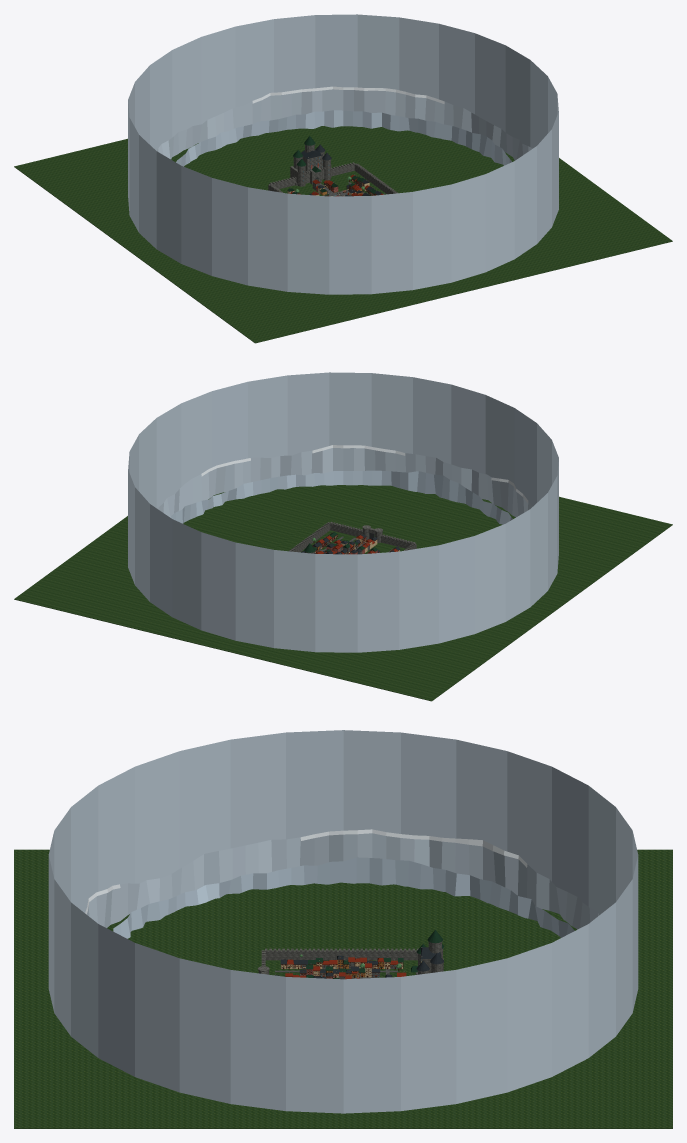
Rendered from town.fbx.
3 views of the same model, one above another, from view 1: azimuth 30°, elevation 25°; view 2: azimuth 150°, elevation 25°; view 3: azimuth 270°, elevation 25° (orthographic). The views are drawn at different scales.
Parts seen in each view (by area): view 1: Environment_DistantMountains, Ground_RoadsAndTerrain, Castle_MainComplex, Wall_OuterRingAndSouthGate; view 2: Environment_DistantMountains, Ground_RoadsAndTerrain, Wall_OuterRingAndSouthGate; view 3: Environment_DistantMountains, Ground_RoadsAndTerrain, Wall_OuterRingAndSouthGate, Castle_MainComplex.
Boxes of the visible parts, x1,y1,x2,y2 form: Environment_DistantMountains: (128,14,558,294); Ground_RoadsAndTerrain: (14,126,672,343); Castle_MainComplex: (290,136,331,186); Wall_OuterRingAndSouthGate: (268,162,398,194); Environment_DistantMountains: (128,372,558,652); Ground_RoadsAndTerrain: (14,485,672,701); Wall_OuterRingAndSouthGate: (289,521,416,552); Environment_DistantMountains: (48,730,638,1113); Ground_RoadsAndTerrain: (14,849,672,1128); Wall_OuterRingAndSouthGate: (257,948,418,974); Castle_MainComplex: (411,930,443,974).
Size of the model in its own units: 760 by 182 by 760.
23 materials, 14 textured.
